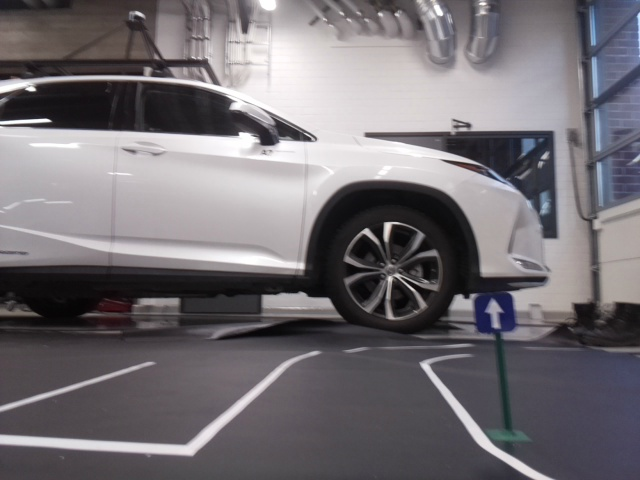OneWay: (476, 295, 516, 329)
